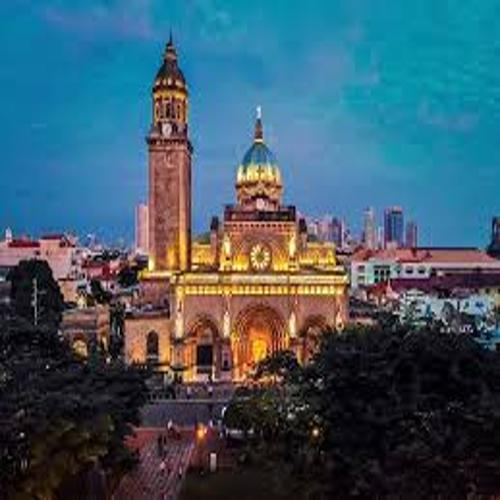Manila Cathedral Church: (81, 18, 360, 386)
